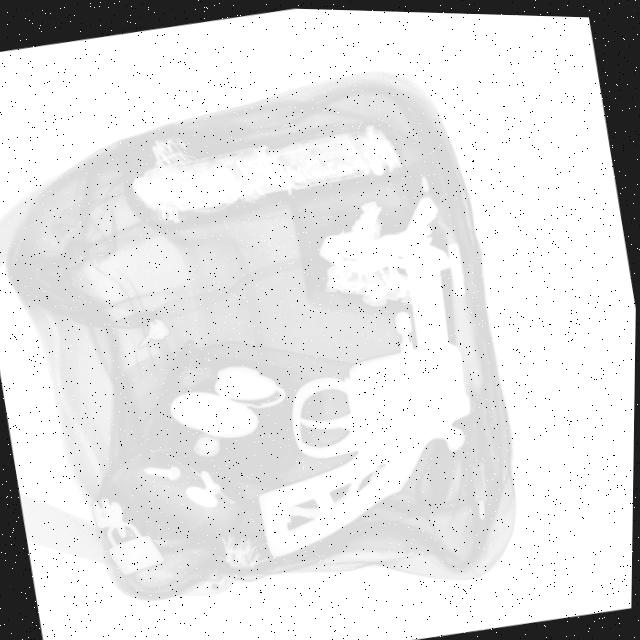pistol: (217, 232, 497, 562)
